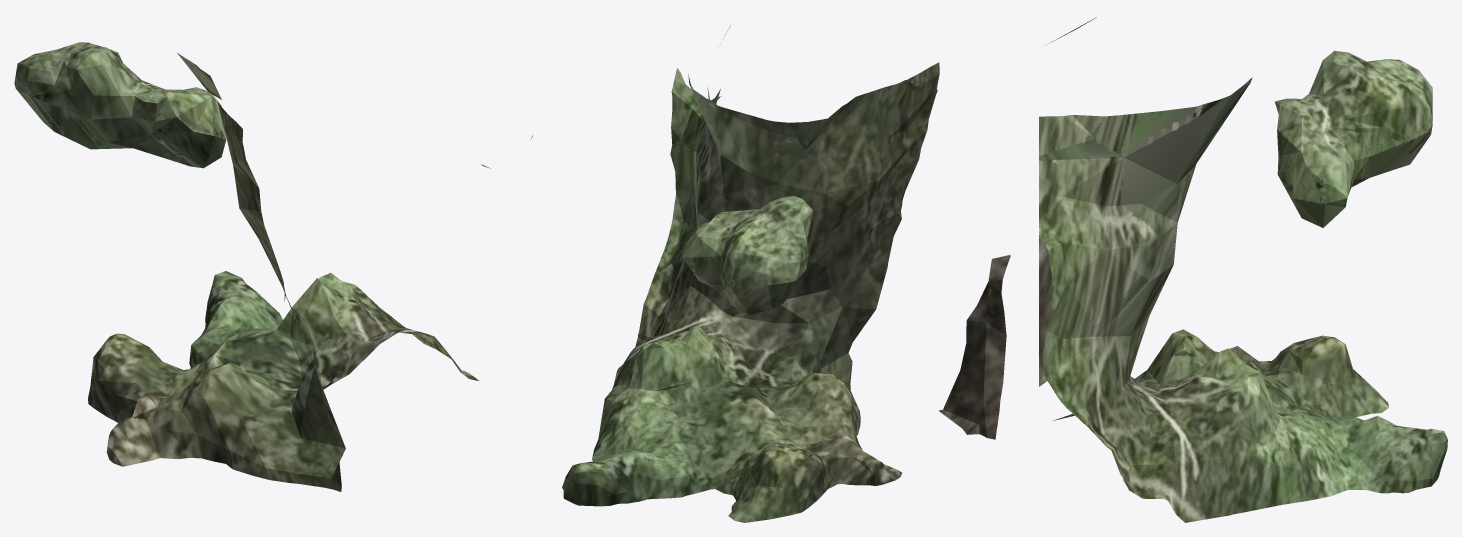
3 views of the same model, side by side, from view 1: azimuth 30°, elevation 25°; view 2: azimuth 150°, elevation 25°; view 3: azimuth 270°, elevation 25° (orthographic). The views are drawn at different scales.
Size of the model in its own units: 2.95 by 2.95 by 2.93.
Materials: 5 (5 with a texture image).
